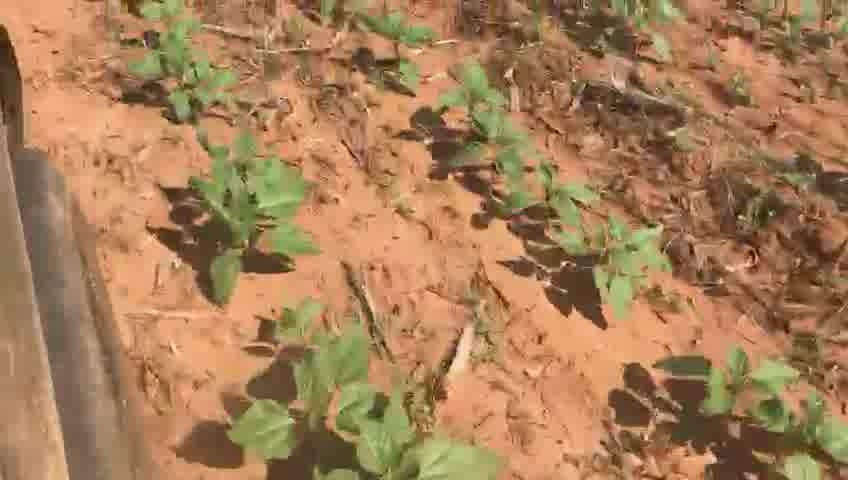sunflower: (227, 300, 371, 464), (174, 136, 311, 300), (319, 390, 505, 475), (590, 217, 677, 328), (729, 397, 840, 478), (658, 349, 797, 413), (451, 139, 563, 217), (439, 55, 523, 149), (122, 13, 213, 97), (352, 4, 437, 92), (162, 63, 241, 125), (545, 186, 609, 259)
